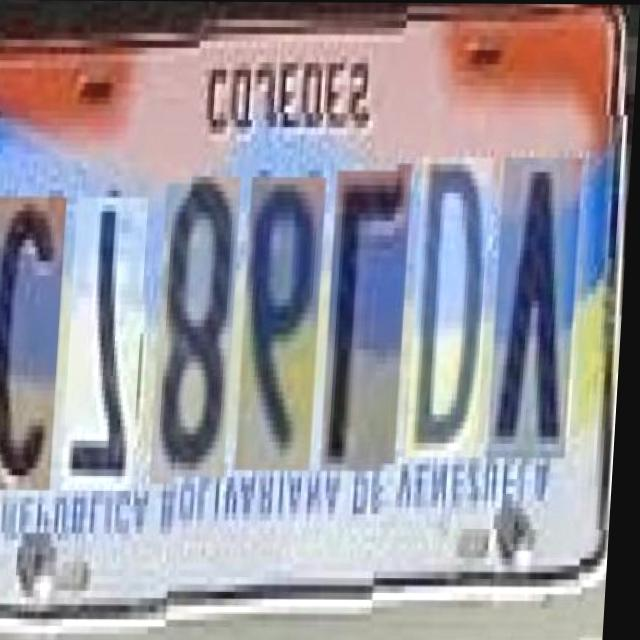6: (240, 183, 329, 477)
7: (66, 197, 152, 491)
8: (154, 184, 243, 484)
c: (0, 197, 70, 491)
d: (410, 170, 495, 470)
l: (326, 178, 414, 478)
v: (491, 170, 584, 471)
